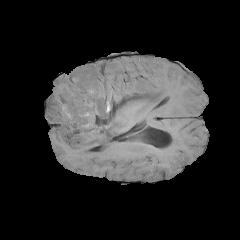glioma: (46, 60, 175, 163)
